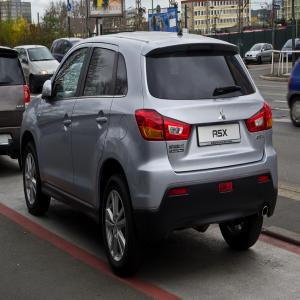Vehicle-registration-plate: (211, 123, 237, 151), (1, 134, 10, 146)
